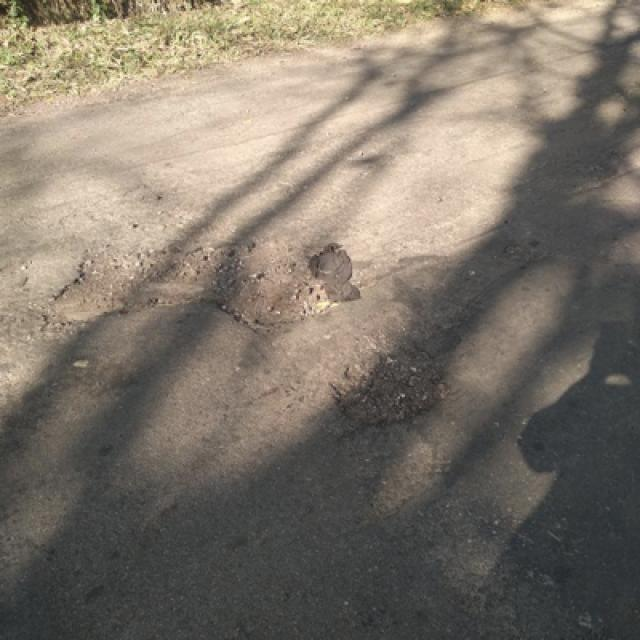jalan_berlubang: (54, 226, 366, 334), (311, 356, 460, 430)
